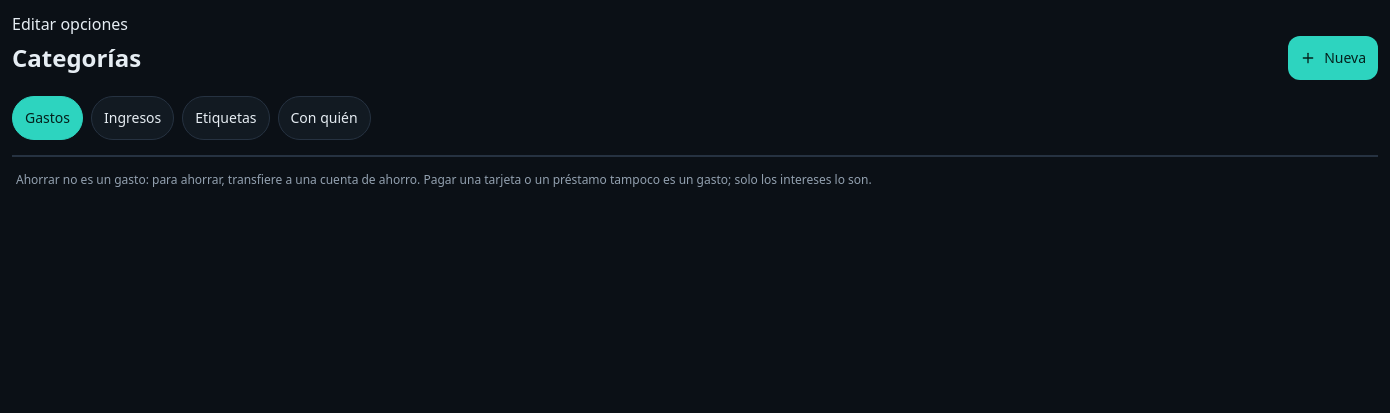
Scenario: CompanionsList (spec con quién §3.3) › switches to the tab when only the query changes
The image size is (1390, 413).
What coordinates should you click on to do the following:
click the link "Editar opciones"
I would click on:
 (70, 24)
Its box is [12, 13, 128, 35].
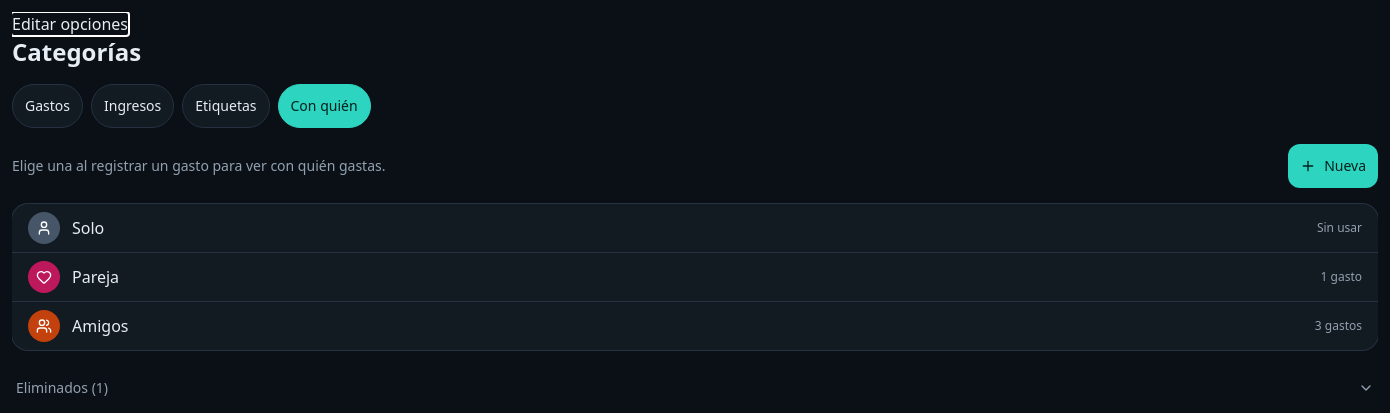
Result: the button with aria-label "Nueva opción" is shown at [1288, 144, 1378, 188]
